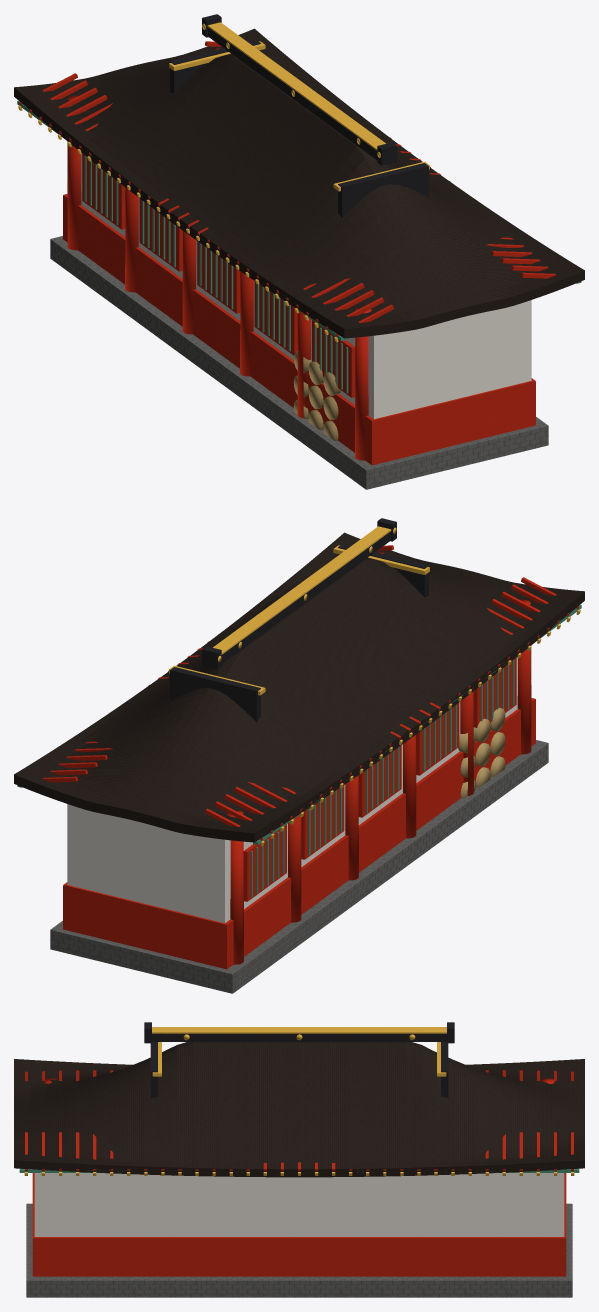
File: Asset_05_Kairo_Corridor_Wing.glb
3 renders of one model, top to bottom at view 1: azimuth 30°, elevation 25°; view 2: azimuth 150°, elevation 25°; view 3: azimuth 270°, elevation 25°, orthographic. The views are drawn at different scales.
Visible parts, largest first — view 1: Z01_Kairo_North_Roof, Z01_Kairo_North_Wainscot, Z01_Kairo_North_Wall, Z01_Kairo_North_Base, Z01_Kairo_North_Roof_Ridge_Gold_Cap, Z01_Kairo_North_Roof_Gable_Pediment_-1, Z01_Kairo_North_Roof_Ridge_Beam, Z01_Kairo_North_Col_0, Z01_Kairo_North_WinFrame_0, Z01_Kairo_North_WinFrame_4, Z01_Kairo_North_WinFrame_1, Z01_Kairo_North_WinFrame_2 (+7 smaller); view 2: Z01_Kairo_North_Roof, Z01_Kairo_North_Wainscot, Z01_Kairo_North_Wall, Z01_Kairo_North_Base, Z01_Kairo_North_Roof_Ridge_Gold_Cap, Z01_Kairo_North_Roof_Gable_Pediment_1, Z01_Kairo_North_Roof_Ridge_Beam, Z01_Kairo_North_WinFrame_4, Z01_Kairo_North_Col_5, Z01_Kairo_North_WinFrame_3, Z01_Kairo_North_WinFrame_2, Z01_Kairo_North_WinFrame_1 (+7 smaller); view 3: Z01_Kairo_North_Roof, Z01_Kairo_North_Wall, Z01_Kairo_North_Wainscot, Z01_Kairo_North_Base, Z01_Kairo_North_Roof_Ridge_Beam, Z01_Kairo_North_Roof_Ridge_Gold_Cap, Z01_Kairo_North_Roof_Gable_Pediment_-1, Z01_Kairo_North_Roof_Gable_Pediment_1, Z01_Kairo_North_Roof_Copper_Gutter_2.8.
Part boxes in pixels (x1,y1,x2,y2): Z01_Kairo_North_Roof: (14,28,584,338); Z01_Kairo_North_Wainscot: (63,194,535,465); Z01_Kairo_North_Wall: (67,141,531,419); Z01_Kairo_North_Base: (50,236,548,489); Z01_Kairo_North_Roof_Ridge_Gold_Cap: (207,22,385,150); Z01_Kairo_North_Roof_Gable_Pediment_-1: (338,163,428,217); Z01_Kairo_North_Roof_Ridge_Beam: (208,27,377,159); Z01_Kairo_North_Col_0: (355,308,371,460); Z01_Kairo_North_WinFrame_0: (312,320,355,397); Z01_Kairo_North_WinFrame_4: (82,153,125,229); Z01_Kairo_North_WinFrame_1: (254,281,297,355); Z01_Kairo_North_WinFrame_2: (197,241,240,313); Z01_Kairo_North_Roof: (14,532,584,842); Z01_Kairo_North_Wainscot: (63,698,535,969); Z01_Kairo_North_Wall: (67,645,531,923); Z01_Kairo_North_Base: (50,740,548,993); Z01_Kairo_North_Roof_Ridge_Gold_Cap: (213,526,391,654); Z01_Kairo_North_Roof_Gable_Pediment_1: (170,667,260,722); Z01_Kairo_North_Roof_Ridge_Beam: (221,531,390,663); Z01_Kairo_North_WinFrame_4: (243,824,286,901); Z01_Kairo_North_Col_5: (227,810,243,964); Z01_Kairo_North_WinFrame_3: (301,785,344,859); Z01_Kairo_North_WinFrame_2: (358,745,401,817); Z01_Kairo_North_WinFrame_1: (416,702,459,775); Z01_Kairo_North_Roof: (14,1042,584,1177); Z01_Kairo_North_Wall: (34,1173,564,1236); Z01_Kairo_North_Wainscot: (32,1173,566,1276); Z01_Kairo_North_Base: (26,1203,572,1297); Z01_Kairo_North_Roof_Ridge_Beam: (152,1033,446,1041); Z01_Kairo_North_Roof_Ridge_Gold_Cap: (152,1027,446,1033); Z01_Kairo_North_Roof_Gable_Pediment_-1: (150,1042,157,1098); Z01_Kairo_North_Roof_Gable_Pediment_1: (441,1042,448,1097); Z01_Kairo_North_Roof_Copper_Gutter_2.8: (19,1168,579,1172).
Size of the model in its own units: 5.9 by 6.23 by 13.8.
Materials: 8 (4 with a texture image).
